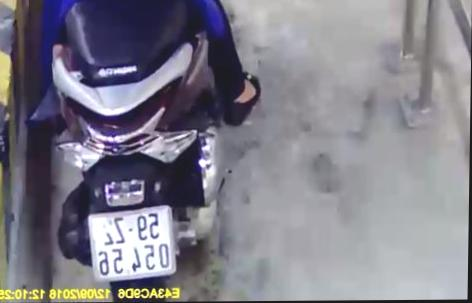License_Plate: (84, 200, 185, 283)
